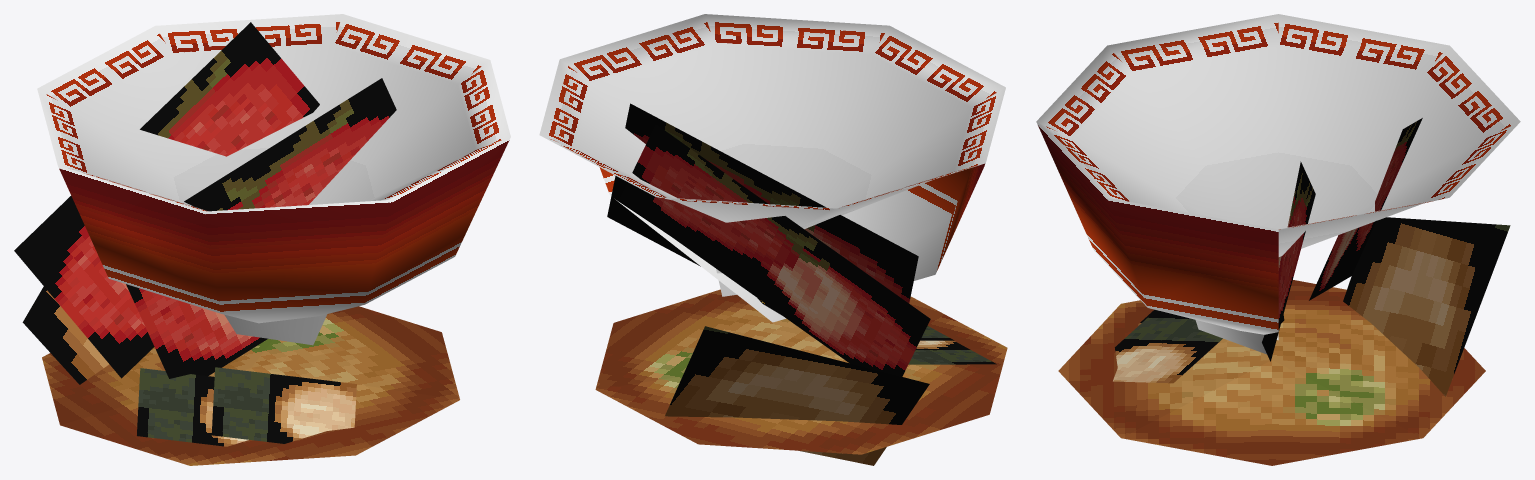
3 renders of one model, left to right at view 1: azimuth 30°, elevation 25°; view 2: azimuth 150°, elevation 25°; view 3: azimuth 270°, elevation 25°, orthographic. The views are drawn at different scales.
Visible parts, largest first — view 1: 5523u_ramn00_hl; view 2: 5523u_ramn00_hl; view 3: 5523u_ramn00_hl.
Part boxes in pixels (<box>): 5523u_ramn00_hl: <box>14,14,510,465</box>; 5523u_ramn00_hl: <box>539,14,1007,465</box>; 5523u_ramn00_hl: <box>1036,14,1520,465</box>.
Bounding box in the file's own units: 0.7812 × 0.5945 × 0.7417.
Materials: 5 (5 with a texture image).
